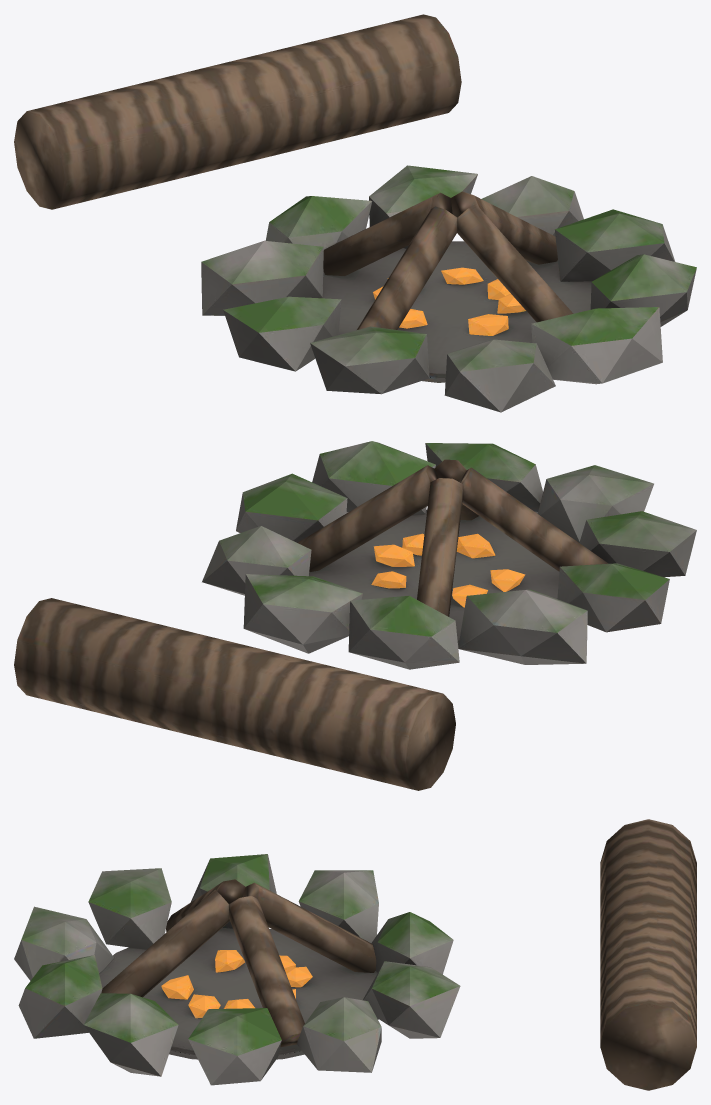
File: campfire.glb
The picture shows the model from 3 angles, top to bottom: view 1: azimuth 30°, elevation 25°; view 2: azimuth 150°, elevation 25°; view 3: azimuth 270°, elevation 25°; orthographic projection. The views are drawn at different scales.
Visible parts, largest first — view 1: Campfire; view 2: Campfire; view 3: Campfire.
Boxes of the visible parts, x1,y1,x2,y2 form: Campfire: (14, 14, 696, 412); Campfire: (14, 441, 696, 790); Campfire: (14, 819, 696, 1090).
Bounding box in the file's own units: 1.92 × 0.5772 × 2.82.
Materials: 4 (4 with a texture image).
